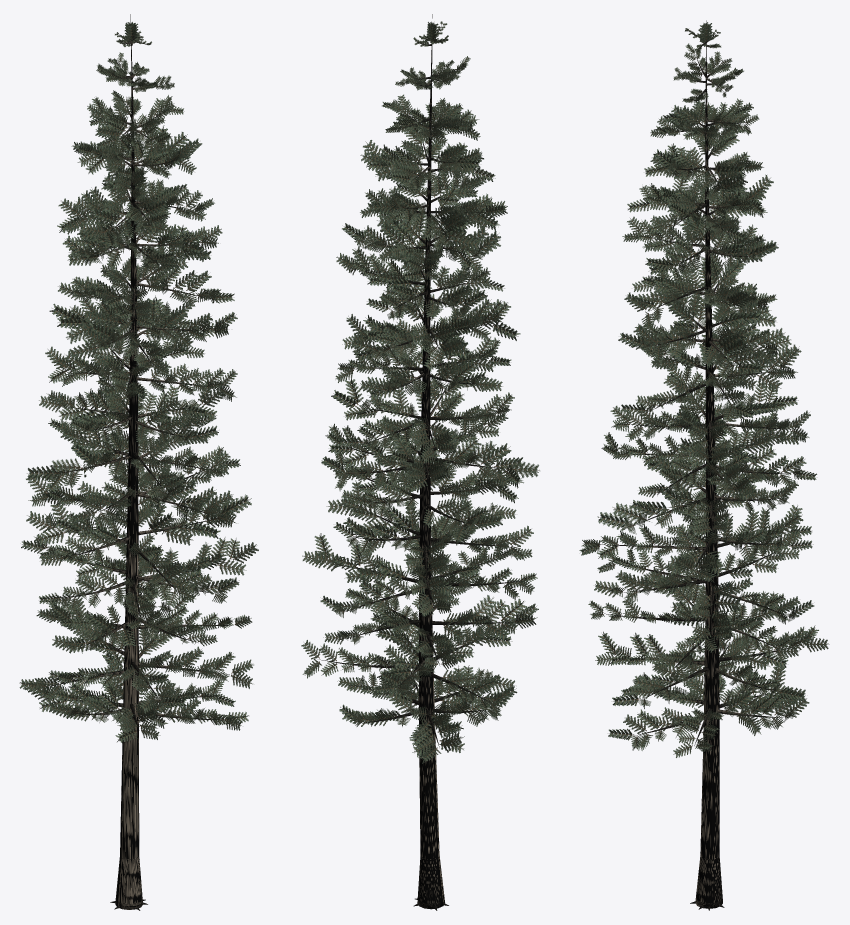
File: Sitka_Mature_03_Unpruned_LOD0.fbx
The picture shows the model from 3 angles, left to right: view 1: azimuth 30°, elevation 25°; view 2: azimuth 150°, elevation 25°; view 3: azimuth 270°, elevation 25°; orthographic projection.
Visible parts, largest first — view 1: Sitka_Mature_03_Unpruned_LOD0; view 2: Sitka_Mature_03_Unpruned_LOD0; view 3: Sitka_Mature_03_Unpruned_LOD0.
Part boxes in pixels (box(x1,y1,x2,y2)): Sitka_Mature_03_Unpruned_LOD0: box(19, 14, 258, 910); Sitka_Mature_03_Unpruned_LOD0: box(301, 14, 539, 910); Sitka_Mature_03_Unpruned_LOD0: box(579, 20, 829, 910).
Bounding box in the file's own units: 656 × 2400 × 641.
Materials: 2 (2 with a texture image).
